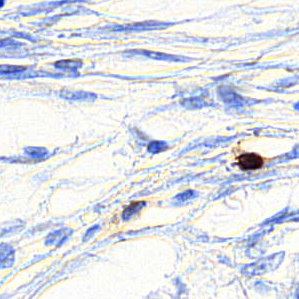Lymphocyte: (234, 149, 265, 171)
